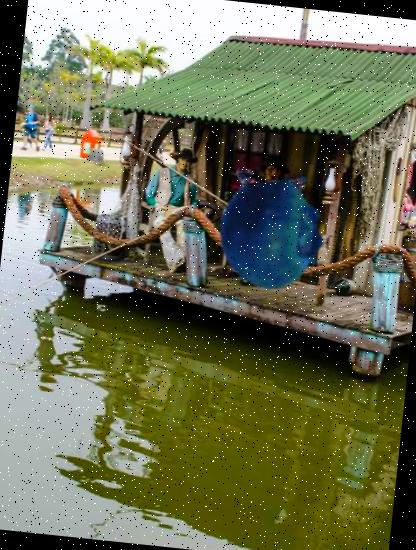Huckleberry: (211, 176, 330, 295)
